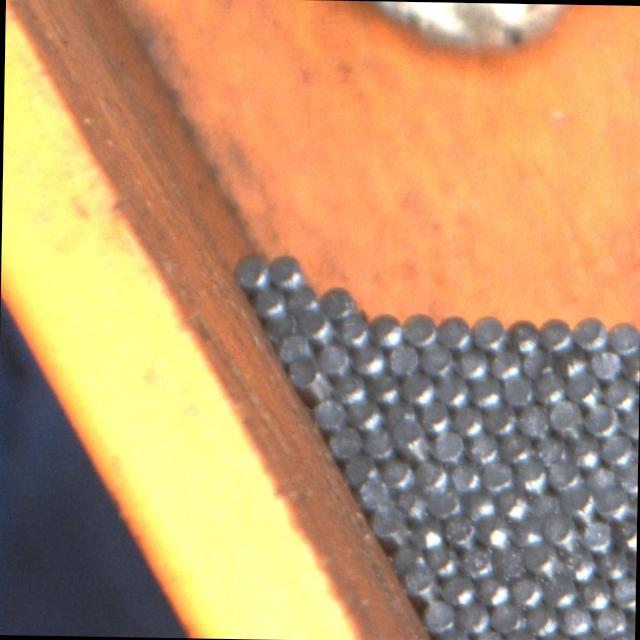tool: (472, 314, 507, 350), (603, 376, 638, 411), (436, 313, 471, 348), (600, 432, 636, 466), (509, 572, 544, 606), (422, 598, 457, 632), (432, 428, 467, 462), (585, 401, 620, 435), (606, 319, 640, 354), (369, 312, 404, 346), (420, 342, 455, 376), (572, 314, 606, 349), (548, 458, 584, 491), (454, 346, 488, 380), (352, 342, 386, 376), (402, 370, 436, 404), (558, 602, 592, 636), (434, 372, 468, 406), (550, 402, 584, 436), (398, 427, 432, 461), (564, 484, 598, 518), (538, 316, 572, 350), (440, 570, 474, 604), (336, 311, 370, 345), (444, 512, 478, 546), (542, 510, 576, 544), (597, 486, 632, 519), (476, 572, 509, 606), (457, 599, 490, 633), (514, 458, 548, 491), (578, 577, 612, 610), (386, 341, 420, 374), (516, 403, 550, 436), (469, 372, 502, 406), (321, 284, 354, 318), (403, 310, 436, 344), (467, 430, 500, 464), (496, 486, 529, 520), (581, 517, 614, 551), (235, 252, 268, 286), (518, 344, 552, 377), (527, 542, 561, 575), (299, 311, 333, 344), (568, 372, 603, 404), (501, 373, 534, 406), (451, 402, 484, 435), (525, 603, 558, 636), (448, 459, 481, 492), (369, 371, 402, 404), (500, 430, 534, 462), (482, 458, 514, 492), (588, 346, 622, 378), (488, 345, 520, 379), (484, 398, 516, 432), (460, 544, 494, 576), (414, 460, 448, 492), (490, 600, 524, 632), (417, 398, 451, 430), (270, 254, 302, 288), (528, 488, 562, 520), (596, 548, 630, 580), (584, 459, 617, 491), (362, 426, 395, 458), (534, 432, 566, 465), (464, 489, 496, 522), (534, 371, 566, 404), (382, 456, 414, 489), (381, 397, 414, 429), (397, 486, 430, 518), (318, 341, 350, 374), (593, 604, 626, 636), (426, 541, 458, 574), (506, 313, 538, 346), (543, 574, 576, 606), (369, 500, 402, 532), (276, 331, 309, 363), (334, 371, 366, 403), (430, 485, 462, 517), (348, 398, 380, 430), (405, 564, 437, 596), (510, 516, 542, 548), (568, 436, 600, 468), (329, 425, 361, 457), (253, 283, 285, 315), (566, 548, 598, 580), (314, 395, 346, 427), (558, 348, 590, 380), (357, 474, 389, 506), (494, 546, 526, 578), (480, 517, 512, 549), (263, 302, 295, 334), (286, 285, 318, 316), (414, 516, 446, 547), (344, 452, 376, 482), (305, 369, 335, 400), (285, 355, 315, 386), (611, 574, 636, 608), (614, 517, 637, 550), (617, 461, 638, 494), (620, 405, 639, 438), (622, 350, 640, 383), (504, 626, 537, 640), (439, 626, 471, 640), (472, 627, 504, 640), (573, 629, 606, 640)
